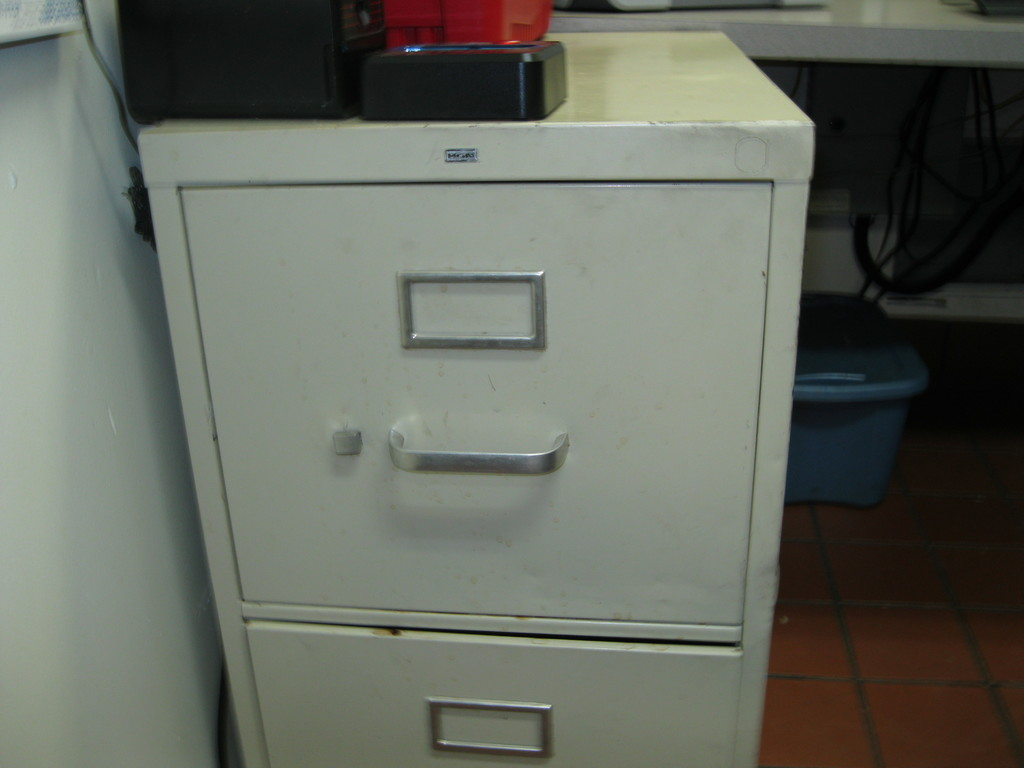cabinet door: (181, 194, 744, 620), (268, 651, 727, 768)
handle: (385, 430, 568, 487)
